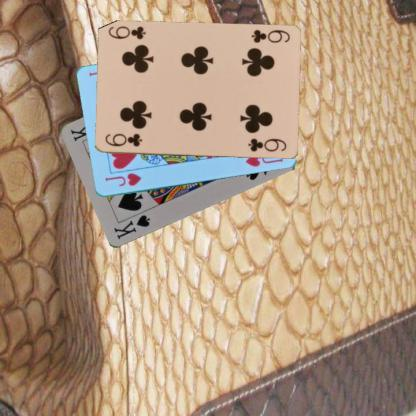6c: (102, 131, 144, 149), (248, 27, 290, 45)
Jh: (102, 170, 142, 188)
Ks: (110, 212, 152, 241)
